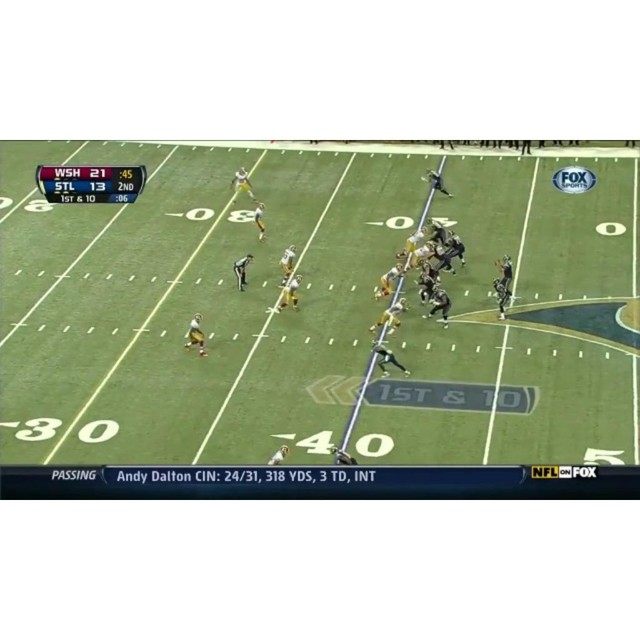american-football-player: (267, 274, 304, 314), (368, 297, 408, 334), (370, 342, 411, 378), (373, 263, 404, 300), (425, 285, 452, 327), (395, 228, 428, 261), (184, 312, 208, 356), (489, 276, 512, 320), (423, 168, 454, 200), (404, 241, 434, 274), (230, 167, 255, 204), (431, 243, 457, 276), (447, 231, 467, 267), (415, 272, 436, 306), (278, 246, 296, 283), (496, 255, 513, 292), (429, 219, 449, 247), (254, 203, 267, 242), (268, 445, 290, 466)
referee: (234, 253, 254, 292)
